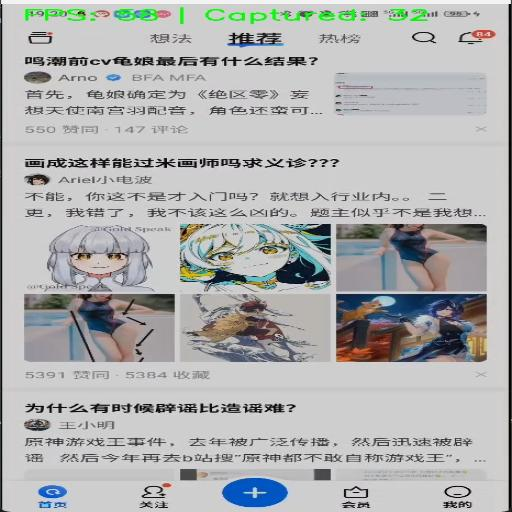butten: (6, 152, 500, 388), (8, 52, 503, 144), (314, 483, 395, 512), (424, 482, 493, 512), (119, 482, 187, 512), (28, 483, 88, 512)
